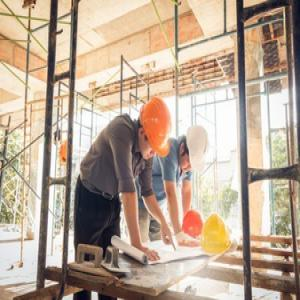white: (181, 127, 210, 175)
yellow: (140, 97, 173, 160)
